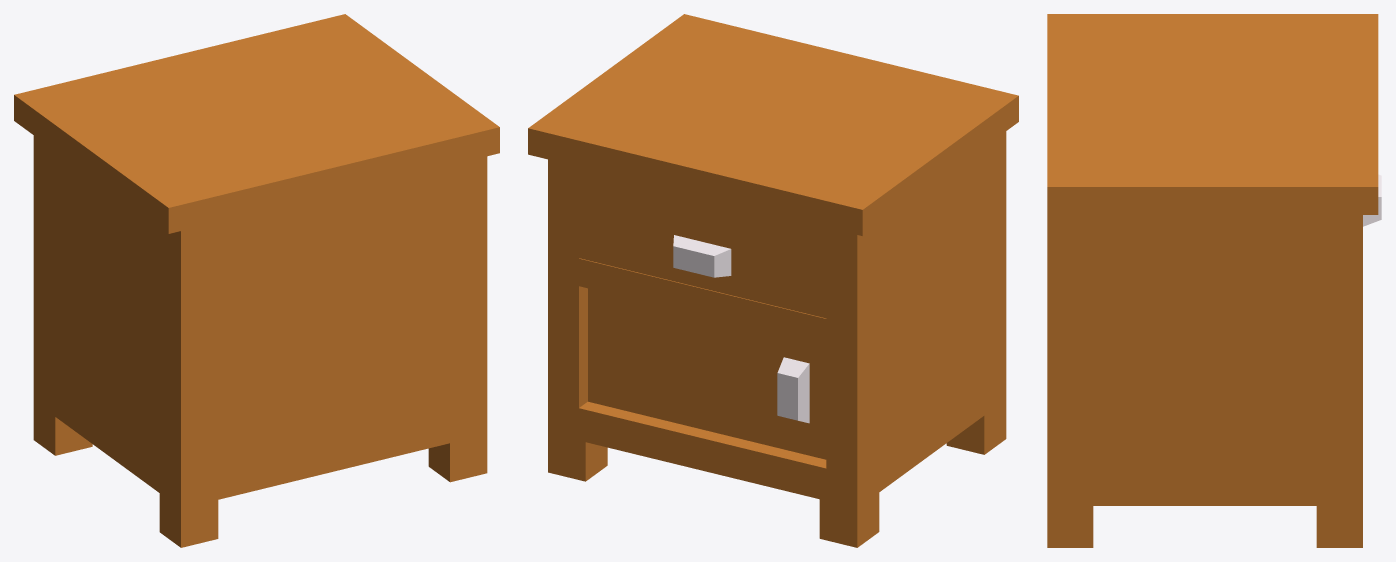
Rendered from Furniture_Dresser.fbx.
The picture shows the model from 3 angles, left to right: view 1: azimuth 30°, elevation 25°; view 2: azimuth 150°, elevation 25°; view 3: azimuth 270°, elevation 25°; orthographic projection. The views are drawn at different scales.
Visible parts, largest first — view 1: cabinetBedDrawer; view 2: cabinetBedDrawer; view 3: cabinetBedDrawer.
Boxes of the visible parts, x1=… form: cabinetBedDrawer: x1=14, y1=14, x2=499, y2=547; cabinetBedDrawer: x1=528, y1=14, x2=1018, y2=547; cabinetBedDrawer: x1=1047, y1=14, x2=1381, y2=547.
Size of the model in its own units: 266 by 263 by 217.
